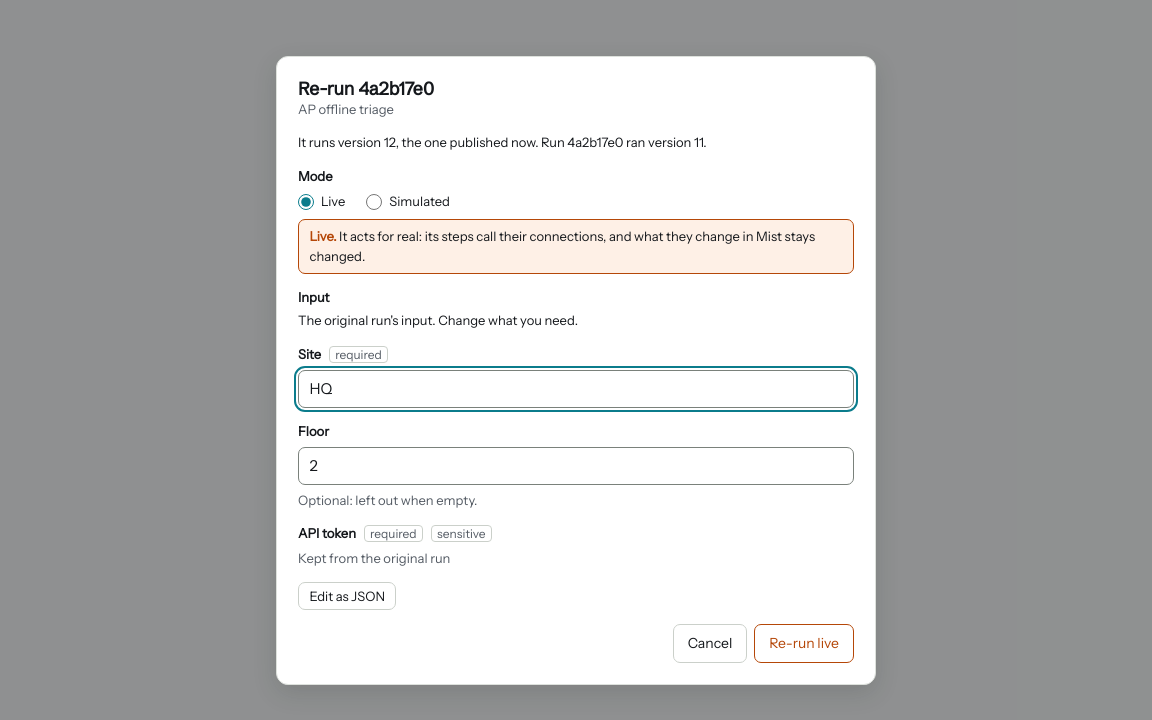
re-running a run (the run form design §5.4; the Rerun board) › says a reason at a field it keeps above the buttons, with where it is (the final review)
Click the button "Re-run live" at (804, 644), box [754, 624, 854, 663]
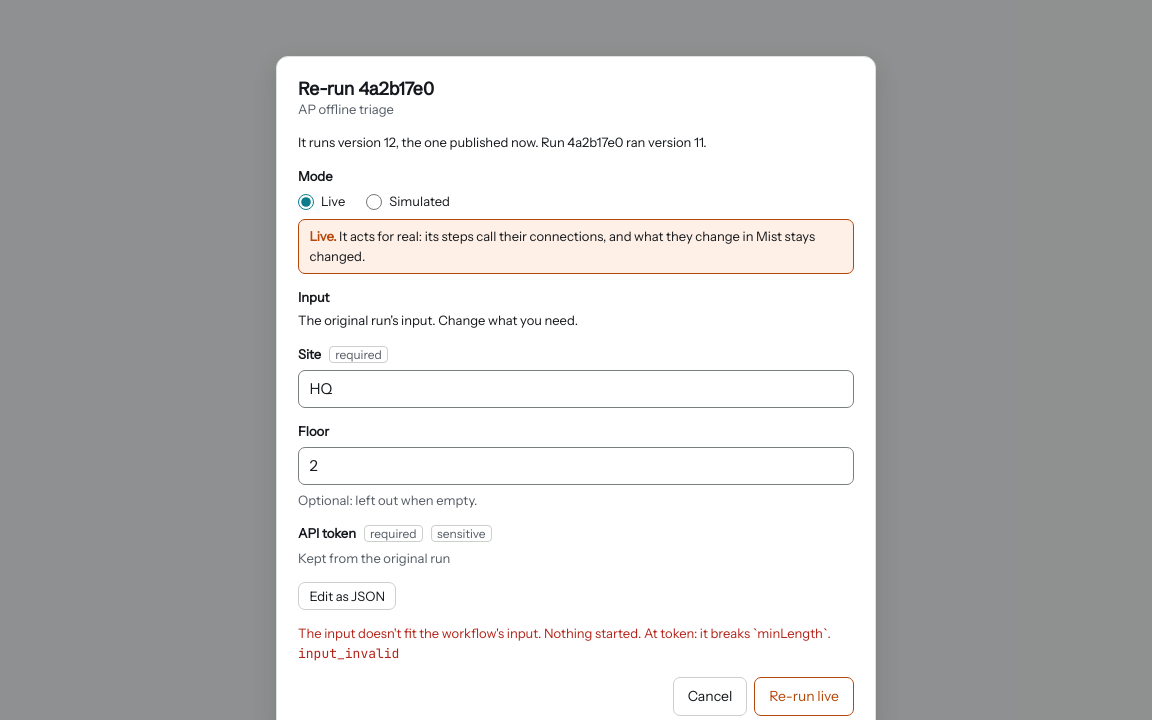
Expected: the message shows "The input doesn't fit the workflow's input. Nothing started. At token: it breaks `minLength`. input_invalid", [298, 624, 854, 663]
